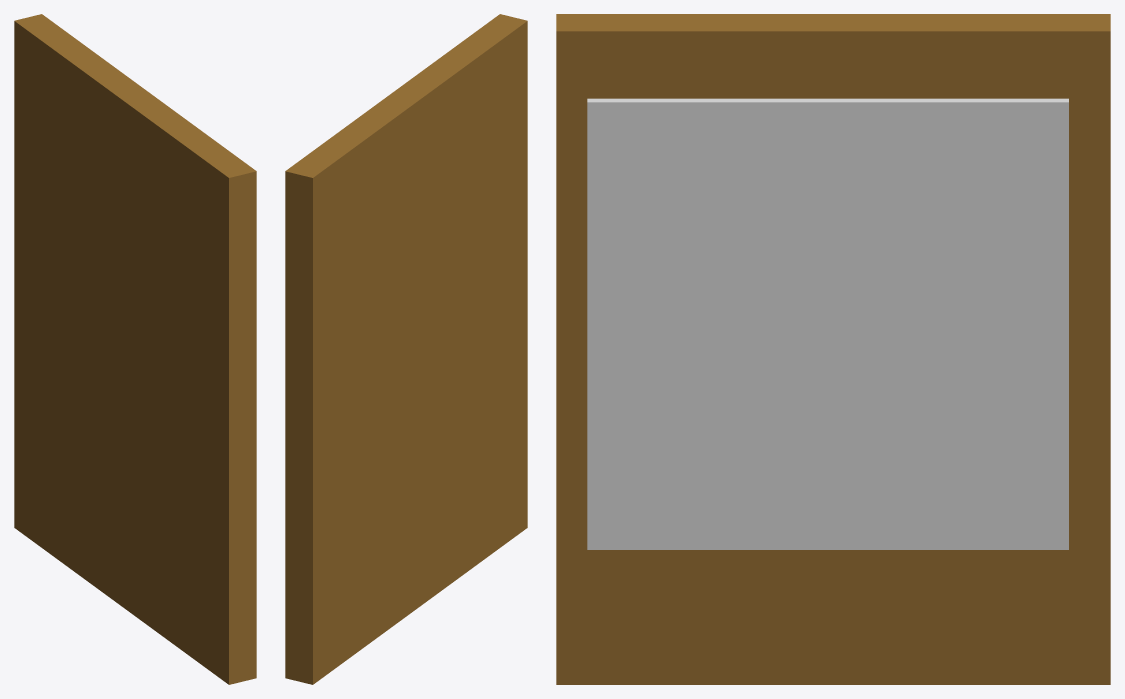
File: tag.dae
3 views of the same model, side by side, from view 1: azimuth 30°, elevation 25°; view 2: azimuth 150°, elevation 25°; view 3: azimuth 270°, elevation 25° (orthographic). The views are drawn at different scales.
Parts seen in each view (by area): view 1: tag.001; view 2: tag.001; view 3: tag.001.
Boxes of the visible parts, box(x1,y1,x2,y2) form: tag.001: box(14, 14, 256, 684); tag.001: box(285, 14, 527, 684); tag.001: box(556, 14, 1110, 684).
Size of the model in its own units: 0.0089 by 0.0991 by 0.129.
